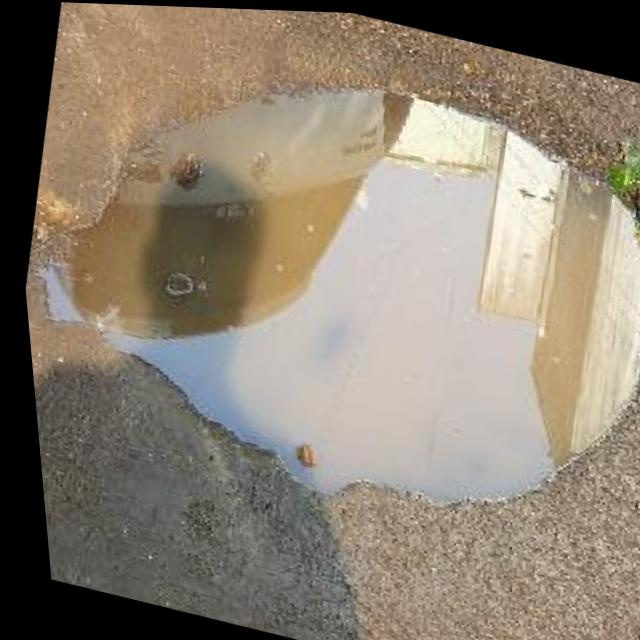puddle: (58, 83, 640, 502)
